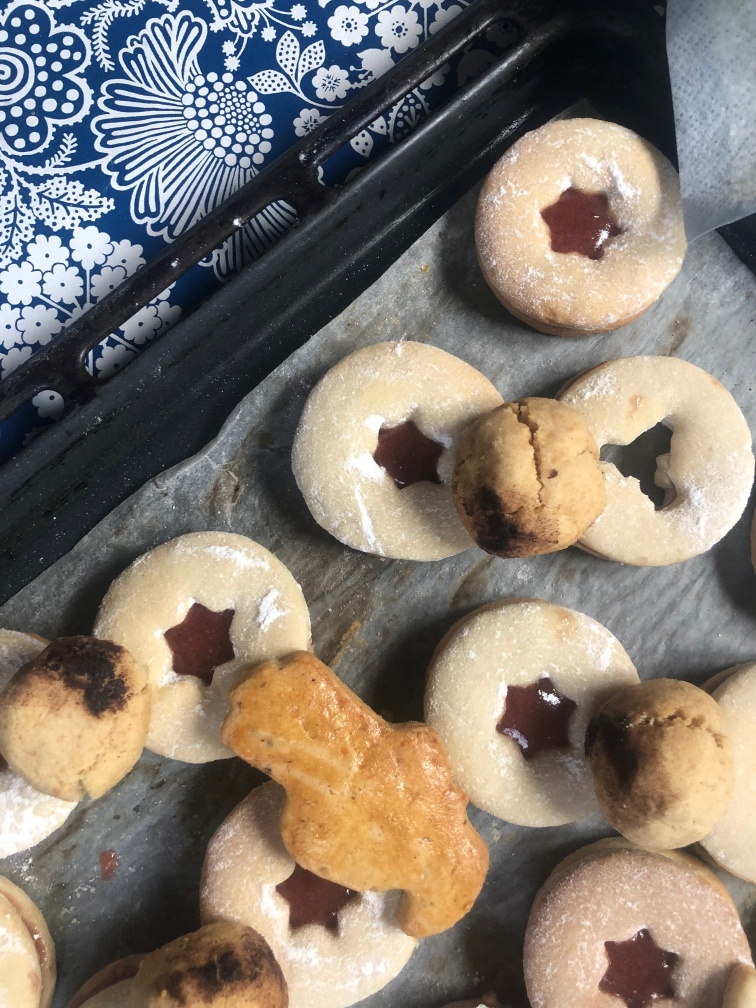christmas shortbread with jam: (90, 529, 303, 762), (285, 335, 505, 560), (472, 110, 688, 335), (209, 786, 413, 999), (562, 354, 752, 567), (427, 598, 597, 833), (528, 843, 746, 1008)
santa claus: (224, 652, 491, 940)
snowball: (588, 674, 739, 848), (455, 389, 601, 565), (1, 635, 151, 805)
